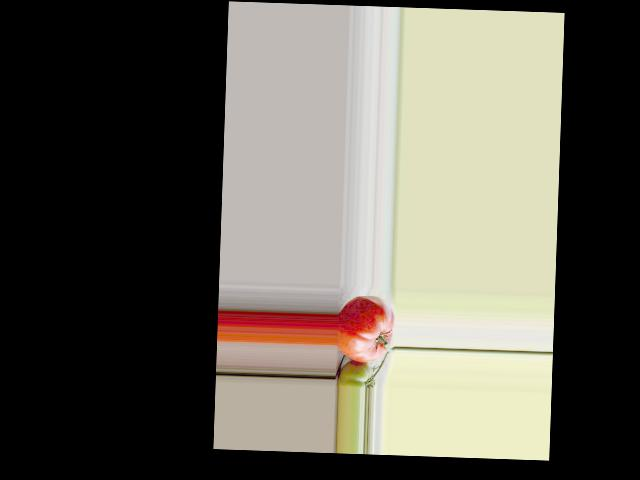tomato: (335, 294, 395, 362)
